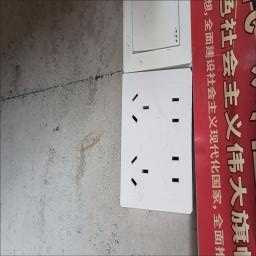outlet: (115, 66, 198, 225)
